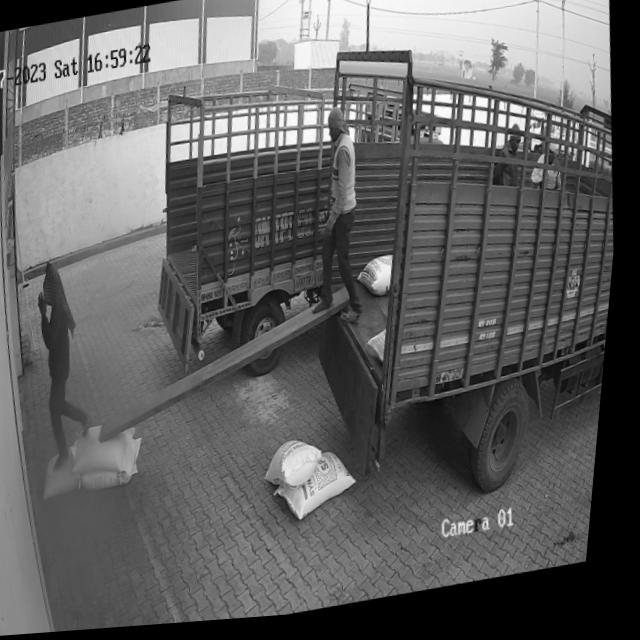sack: (277, 450, 368, 529), (77, 420, 147, 479), (83, 437, 154, 495), (268, 440, 334, 497), (46, 446, 94, 500)
